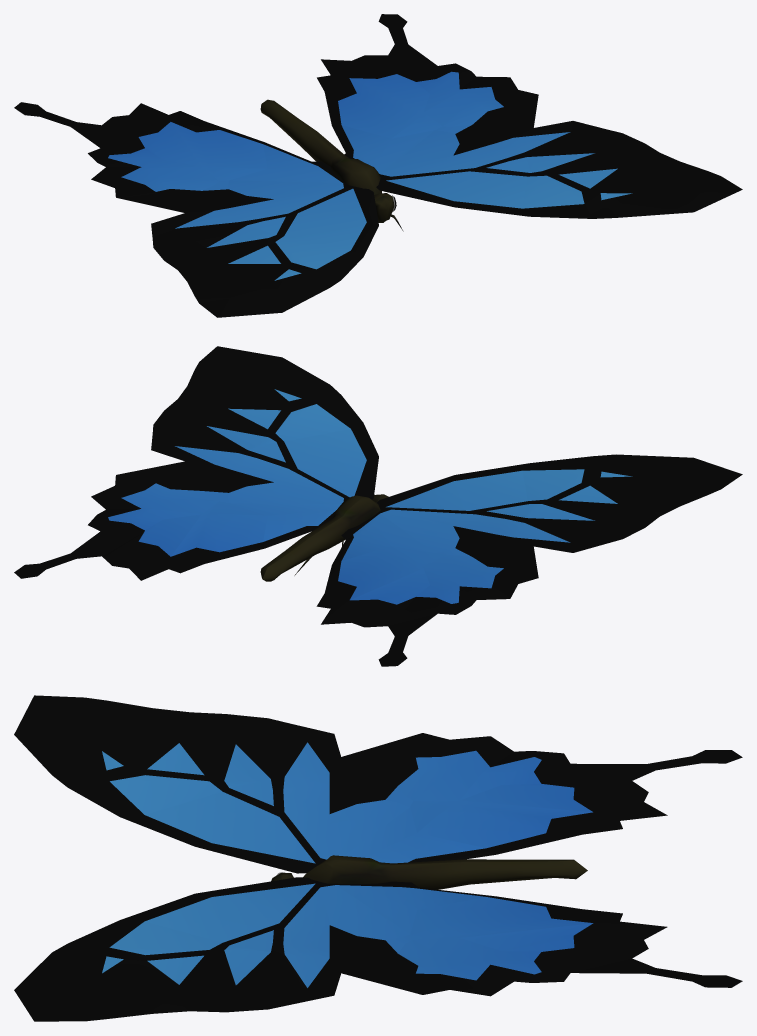
The model's file is animals-flyinginsects-bluemorphobutterfly_v1.glb.
3 renders of one model, top to bottom at view 1: azimuth 30°, elevation 25°; view 2: azimuth 150°, elevation 25°; view 3: azimuth 270°, elevation 25°, orthographic. The views are drawn at different scales.
Visible parts, largest first — view 1: BlueMorphoButterfly.001; view 2: BlueMorphoButterfly.001; view 3: BlueMorphoButterfly.001.
Boxes of the visible parts, x1,y1,x2,y2 form: BlueMorphoButterfly.001: [14, 14, 742, 317]; BlueMorphoButterfly.001: [14, 346, 742, 666]; BlueMorphoButterfly.001: [14, 695, 742, 1021].
Bounding box in the file's own units: 0.6561 × 0.0777 × 0.6198.
